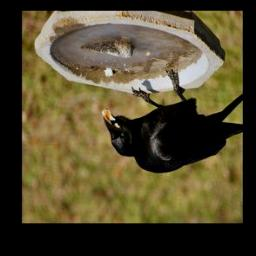Crow: (101, 67, 242, 175)
